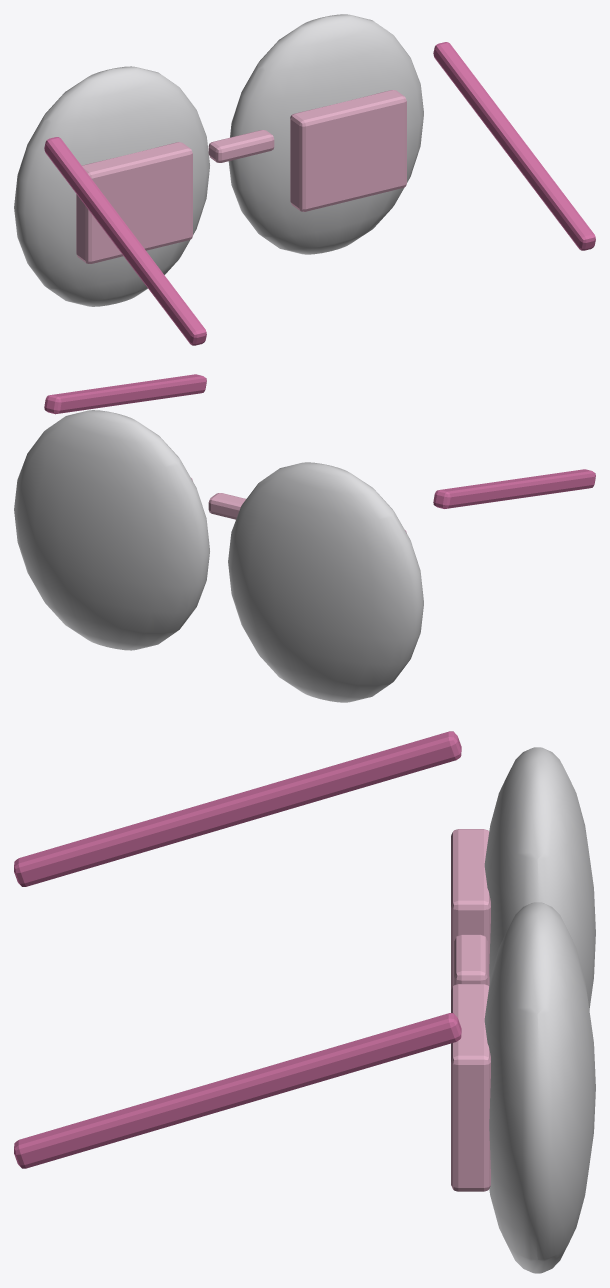
Rendered from VM-CAB-SH20612825.glb.
3 views of the same model, one above another, from view 1: azimuth 30°, elevation 25°; view 2: azimuth 150°, elevation 25°; view 3: azimuth 270°, elevation 25° (orthographic). The views are drawn at different scales.
Parts seen in each view (by area): view 1: Gafas Retro Ovaladas Unisex; view 2: Gafas Retro Ovaladas Unisex; view 3: Gafas Retro Ovaladas Unisex.
Boxes of the visible parts, x1,y1,x2,y2 form: Gafas Retro Ovaladas Unisex: (14,14,595,345); Gafas Retro Ovaladas Unisex: (14,374,595,702); Gafas Retro Ovaladas Unisex: (14,731,595,1273).
Size of the model in its own units: 0.2365 by 0.1304 by 0.1981.
